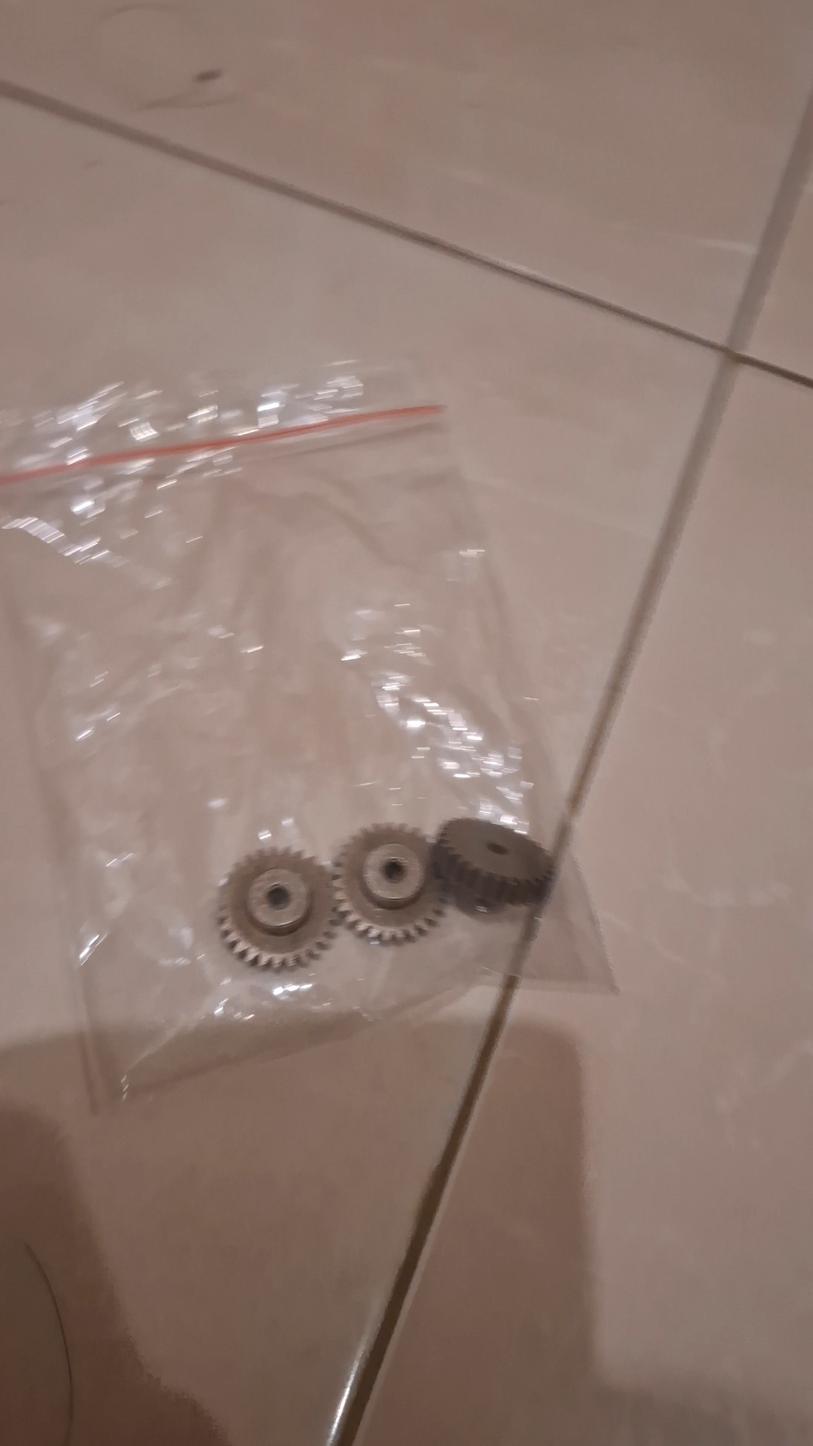spur gear: (215, 844, 344, 970), (331, 822, 450, 943), (430, 815, 558, 914)
